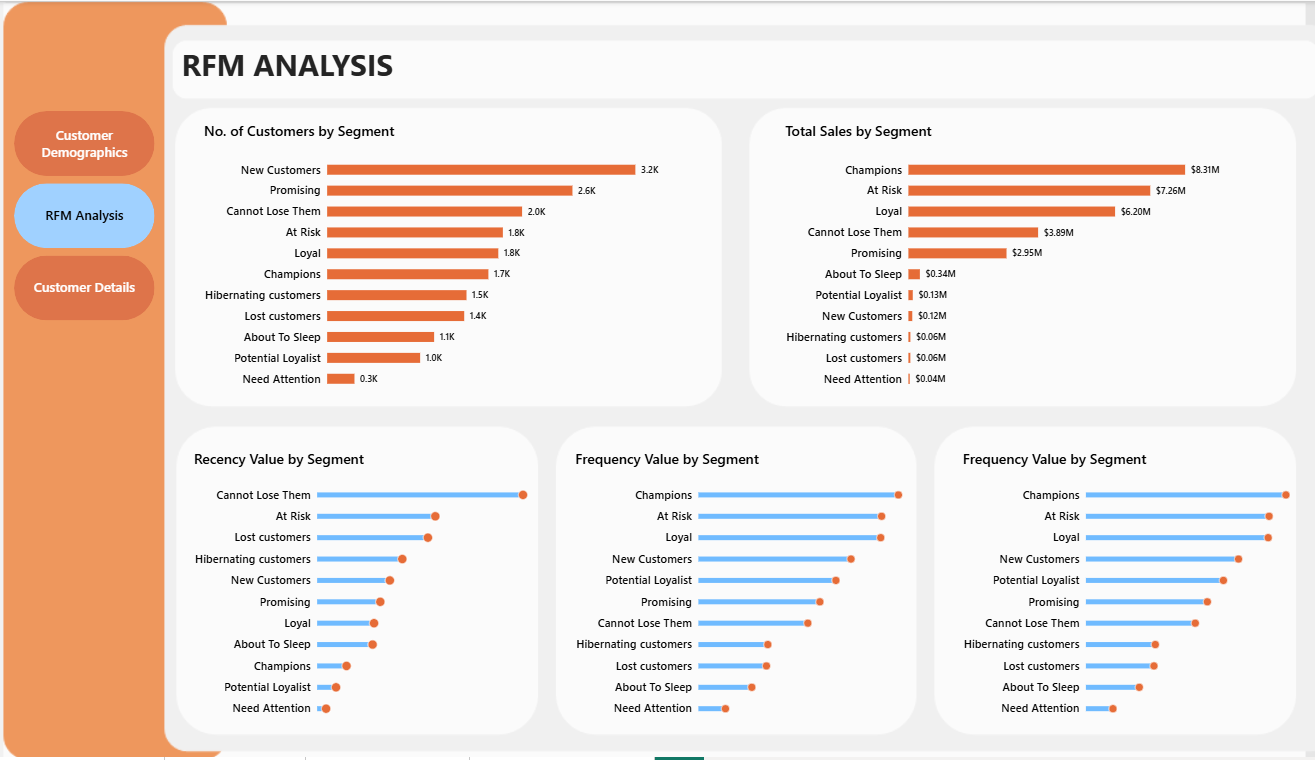

This screenshot's page, from the dashboard's own definition file:
{"tool":"powerbi","page":{"name":"RFM Analysis","canvas":[1920,1080],"ordinal":1},"visuals":[{"type":"barChart","title":"No. of Customers by Segment","fields":{"Category":["Segment Score.Segment"],"Y":["Count(FactInternetSales.CustomerKey)"]},"box":[276.8,173.2,683.9,417.9],"z":0},{"type":"barChart","title":"Total Sales by Segment","fields":{"Category":["Segment Score.Segment"],"Y":["Sum(FactInternetSales.SalesAmount)"]},"box":[1141.1,173.2,683.9,417.9],"z":1},{"type":"clusteredBarChart","title":"Recency Value by Segment","fields":{"Category":["Segment Score.Segment"],"Y":["Sum(RFM Table.Recency Value)"]},"box":[276.8,625,544.6,417.9],"z":2},{"type":"clusteredBarChart","title":"Frequency Value by Segment","fields":{"Category":["Segment Score.Segment"],"Y":["Sum(RFM Table.Frequency Value)"]},"box":[821.4,625,544.6,417.9],"z":3},{"type":"clusteredBarChart","title":"Frequency Value by Segment","fields":{"Category":["Segment Score.Segment"],"Y":["Sum(RFM Table.Frequency Value)"]},"box":[1375,625,544.6,417.9],"z":4},{"type":"textbox","box":[275,60.7,437.5,67.9],"z":5},{"type":"pageNavigator","box":[35.7,157.1,201.8,301.8],"z":6}]}

Visuals, with their boxes in screenshot pixels (x1, y1, x2, y2), scaled from the page's 1920x1080 canvas onto the 1315x760 screenshot:
"No. of Customers by Segment" barChart: [190, 122, 658, 416]
"Total Sales by Segment" barChart: [782, 122, 1250, 416]
"Recency Value by Segment" clusteredBarChart: [190, 440, 563, 734]
"Frequency Value by Segment" clusteredBarChart: [563, 440, 936, 734]
"Frequency Value by Segment" clusteredBarChart: [942, 440, 1314, 734]
textbox: [188, 43, 488, 90]
pageNavigator: [24, 111, 163, 323]
